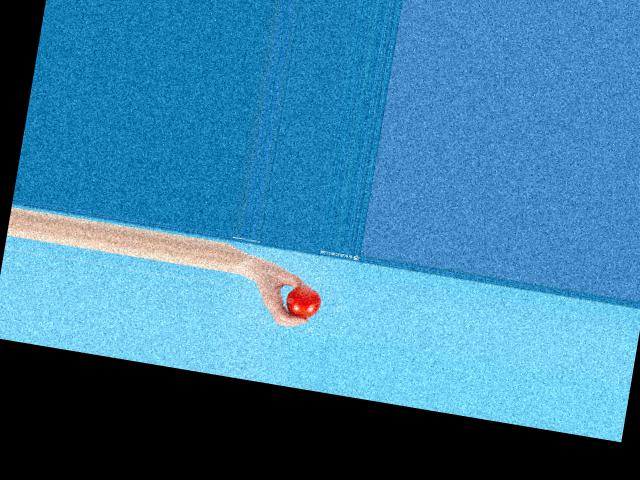tomato: (283, 285, 322, 320)
